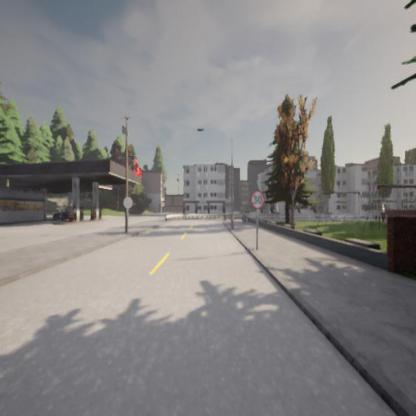traffic_sign_30: (251, 191, 264, 210)
